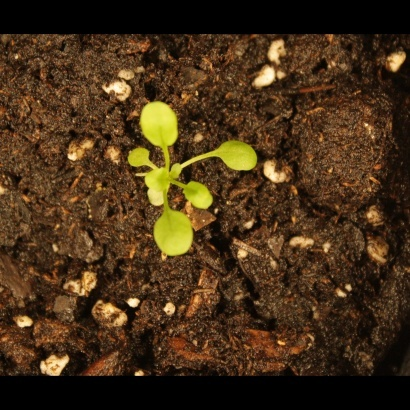leaf: (149, 203, 199, 263), (137, 96, 185, 152), (208, 136, 268, 179), (182, 177, 220, 216), (143, 166, 175, 193), (125, 146, 152, 172), (146, 185, 170, 208), (162, 160, 185, 183)
